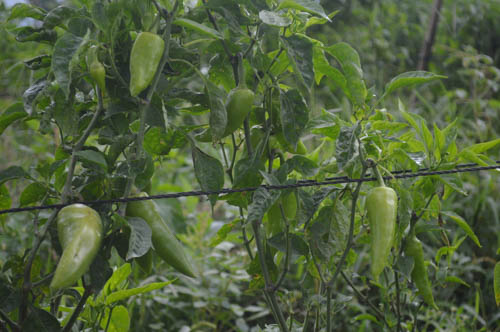ChiliPepper: (129, 195, 196, 279), (46, 205, 102, 287), (197, 90, 260, 147), (366, 185, 401, 281), (127, 32, 161, 97)
